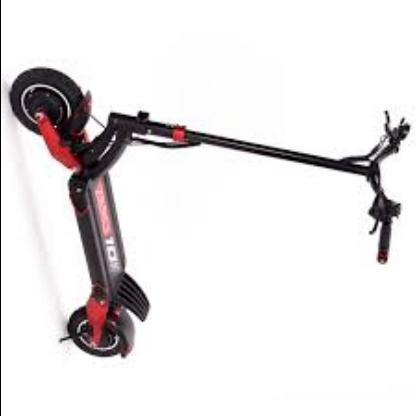bike: (9, 67, 415, 361)
